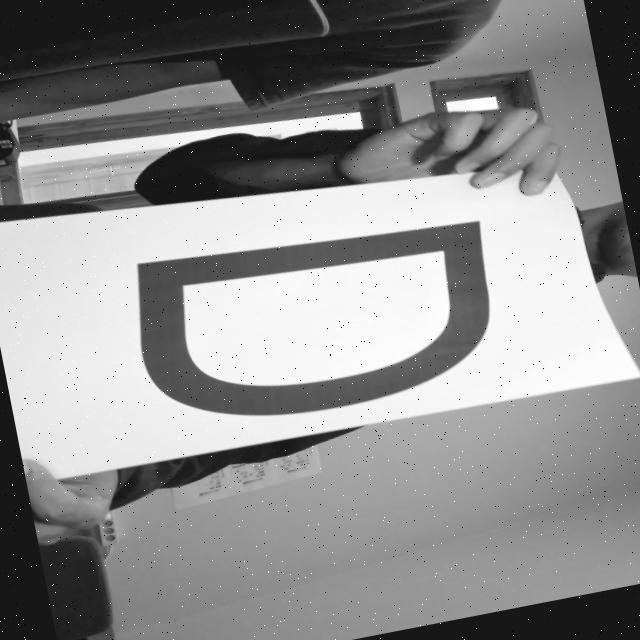d: (110, 186, 532, 448)
